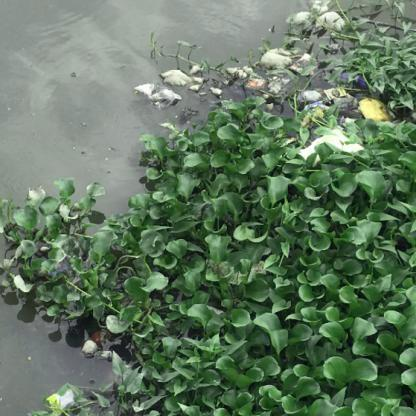Trash: (296, 118, 358, 160), (119, 81, 186, 113), (44, 384, 86, 412), (256, 40, 290, 74), (326, 83, 354, 110), (160, 62, 191, 86), (219, 58, 254, 78), (288, 5, 316, 28), (321, 10, 347, 34), (304, 0, 336, 13), (204, 85, 221, 104)
